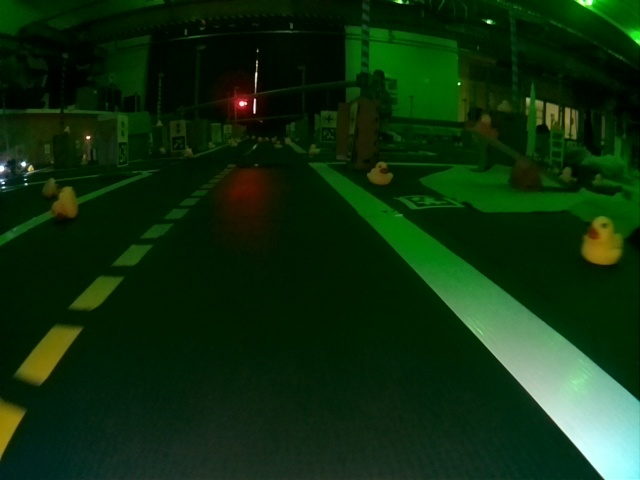Duckie: (582, 216, 623, 266), (52, 187, 78, 218), (368, 161, 393, 185), (42, 178, 58, 197)
Intersection sign: (324, 114, 335, 126)
QR code: (396, 196, 464, 210), (118, 143, 128, 164), (321, 128, 335, 141), (173, 136, 184, 149)
Signal sign: (172, 122, 185, 136)
Traffic light: (238, 99, 248, 108)
